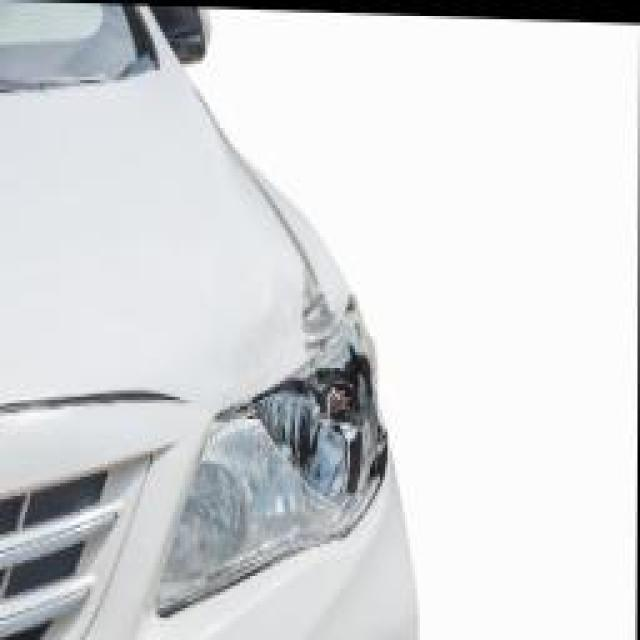Light: (252, 272, 396, 491)
